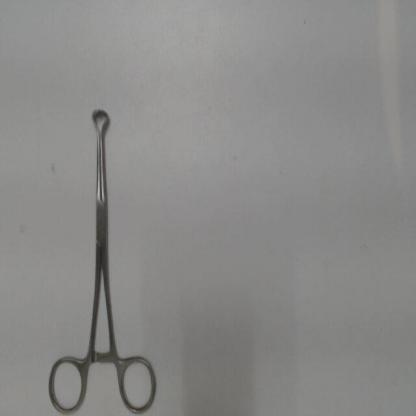Babcock Tissue Forceps: (47, 103, 161, 416)
